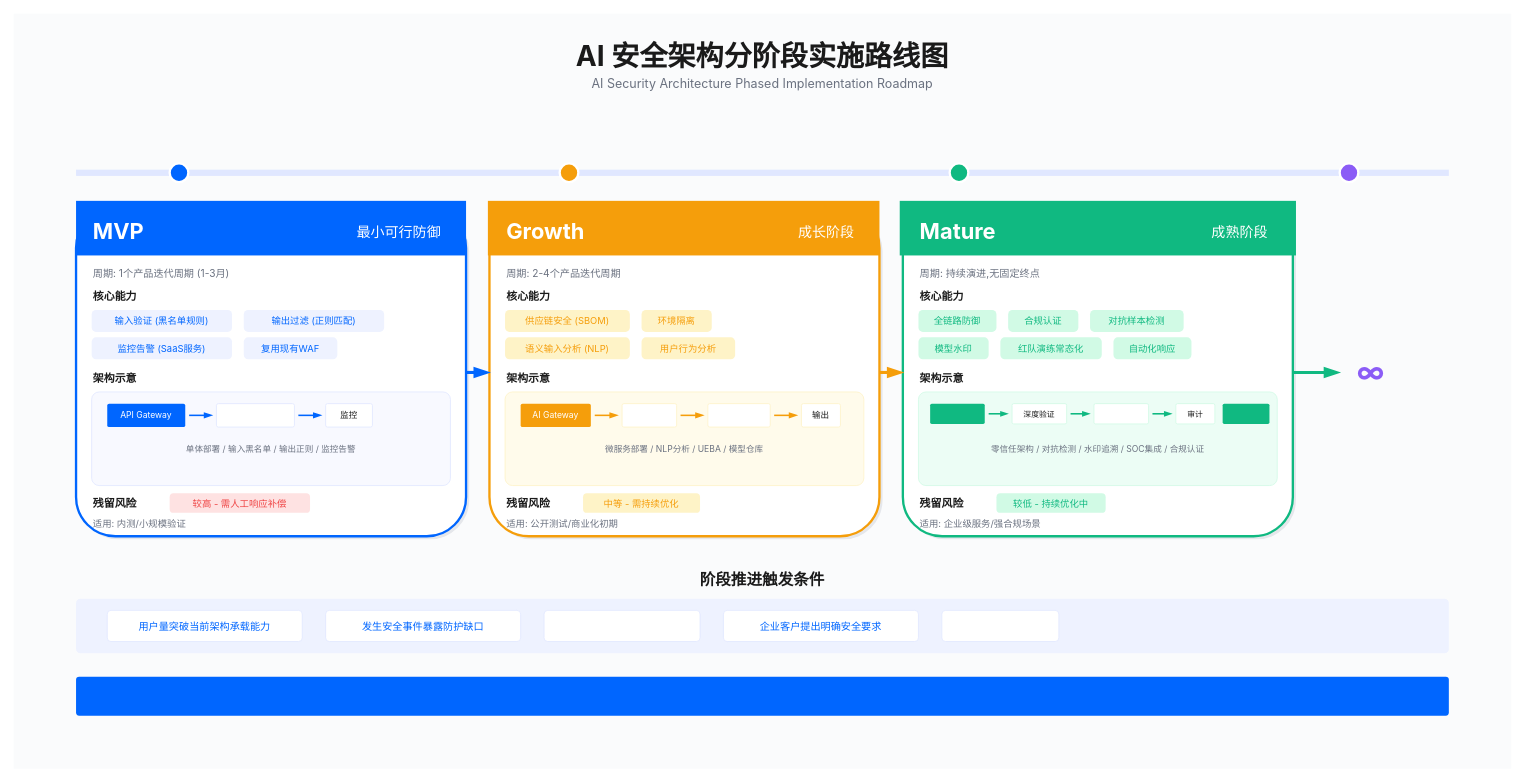
Image size: 1524x782. Some labels were removed from this diagram. The shapes that lost their labels are listed below. From the top down, each one's centre as x and y in pixels, then its label:
pixel 255 415: 推理服务
pixel 649 415: 验证层
pixel 738 415: 推理集群
pixel 957 413: 安全网关
pixel 1121 413: 弹性集群
pixel 1245 413: SOC集成
pixel 621 626: 业务进入强合规市场
pixel 1000 626: 监管要求变更
pixel 762 695: 核心方法论: "边运营边加固" - 先建立最小可行防御覆盖高频攻击,在运营中持续迭代,逐步形成完整防护体系
